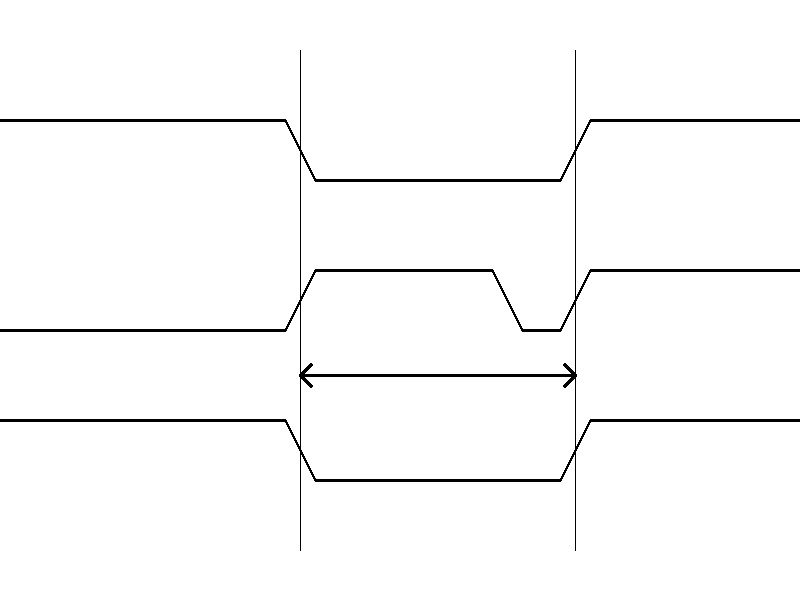double_arrow: (300, 360, 575, 390)
